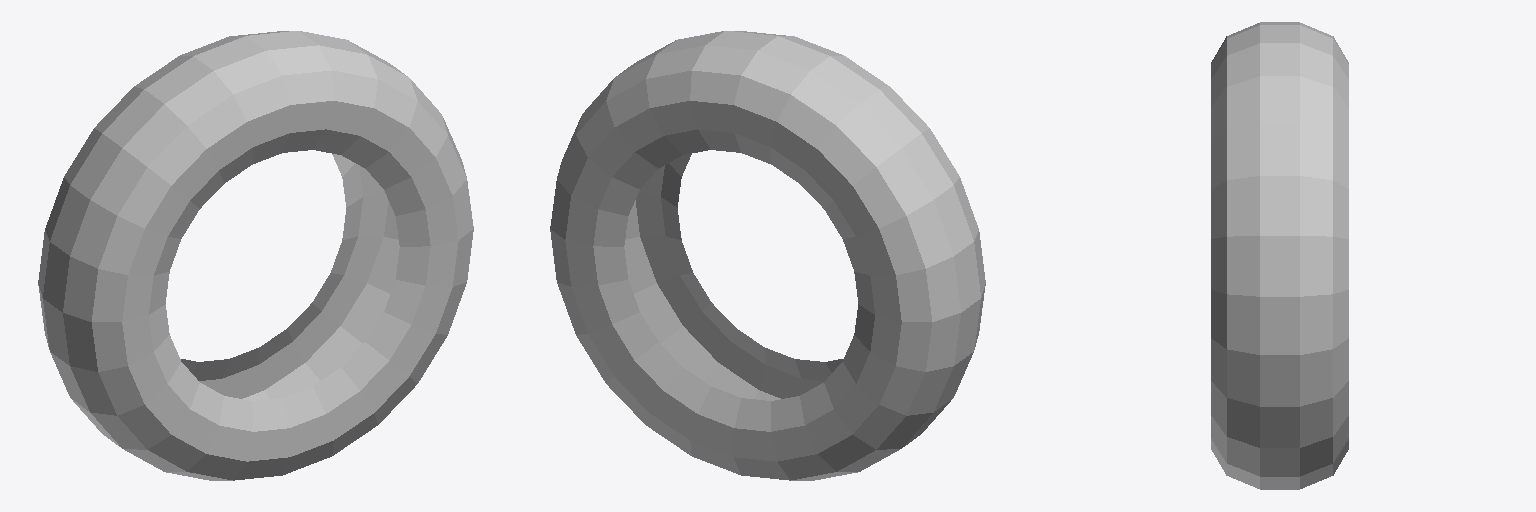
File: TireSelf.obj
3 views of the same model, side by side, from view 1: azimuth 30°, elevation 25°; view 2: azimuth 150°, elevation 25°; view 3: azimuth 270°, elevation 25° (orthographic).
Visible parts, largest first — view 1: loftedSurface1; view 2: loftedSurface1; view 3: loftedSurface1.
Boxes of the visible parts, x1,y1,x2,y2 form: loftedSurface1: [38, 31, 473, 480]; loftedSurface1: [550, 31, 985, 480]; loftedSurface1: [1211, 22, 1348, 489].
Size of the model in its own units: 3.73 by 3.73 by 1.1.